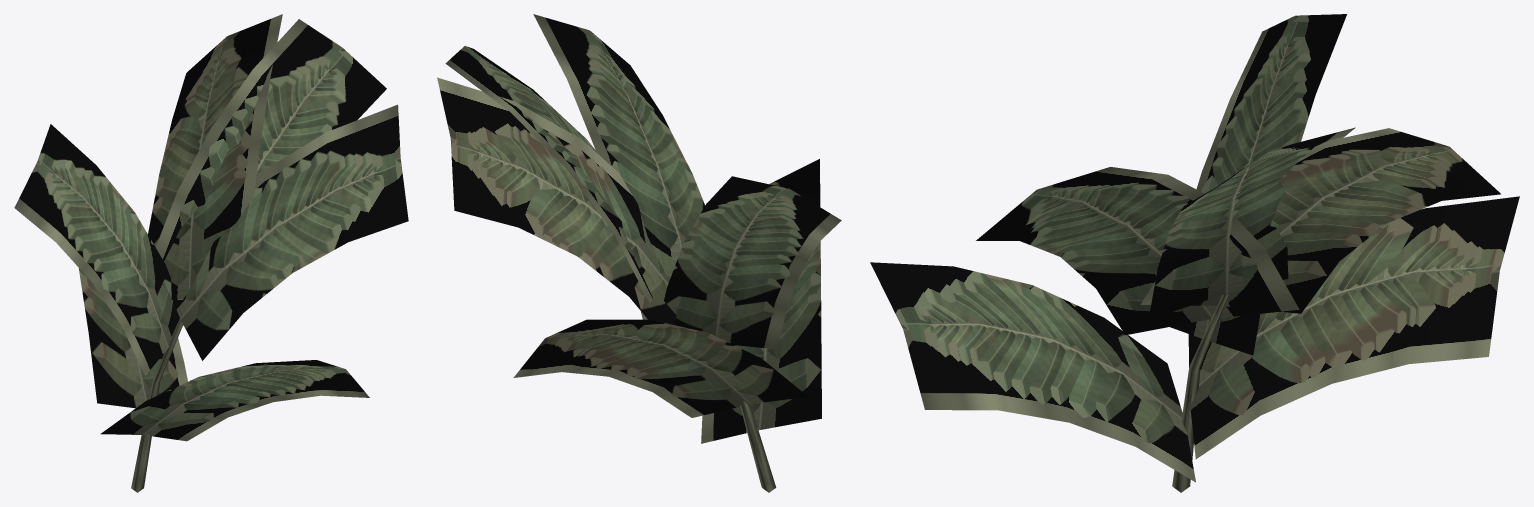
File: fern_leaning.obj
3 renders of one model, left to right at view 1: azimuth 30°, elevation 25°; view 2: azimuth 150°, elevation 25°; view 3: azimuth 270°, elevation 25°, orthographic. The views are drawn at different scales.
Visible parts, largest first — view 1: Upper_Back_Branch, Upper_Left_Branch, Top_Branch, Upper_Right_Branch, Low_Back_Branch, Low_Front_Branch, Main_Stem; view 2: Upper_Right_Branch, Upper_Left_Branch, Upper_Back_Branch, Low_Front_Branch, Low_Back_Branch, Top_Branch, Main_Stem; view 3: Low_Front_Branch, Low_Back_Branch, Upper_Back_Branch, Upper_Right_Branch, Upper_Left_Branch, Top_Branch, Main_Stem.
Part boxes in pixels (x1,y1,x2,y2): Upper_Back_Branch: (173,104,408,360); Upper_Left_Branch: (14,124,183,375); Top_Branch: (155,19,386,260); Upper_Right_Branch: (148,14,282,299); Low_Back_Branch: (101,360,369,441); Low_Front_Branch: (78,268,187,408); Main_Stem: (131,318,183,492); Upper_Right_Branch: (437,77,676,324); Upper_Left_Branch: (664,176,841,349); Upper_Back_Branch: (533,14,705,319); Low_Front_Branch: (513,319,807,417); Low_Back_Branch: (701,159,821,443); Top_Branch: (445,46,652,303); Main_Stem: (740,400,776,492); Low_Front_Branch: (1188,196,1519,459); Low_Back_Branch: (870,262,1195,482); Upper_Back_Branch: (976,167,1299,335); Upper_Right_Branch: (1140,128,1500,313); Upper_Left_Branch: (1170,14,1346,355); Top_Branch: (1148,127,1355,319); Main_Stem: (1172,293,1229,492).
Size of the model in its own units: 49.2 by 49.69 by 57.01.
1 material, 1 textured.
